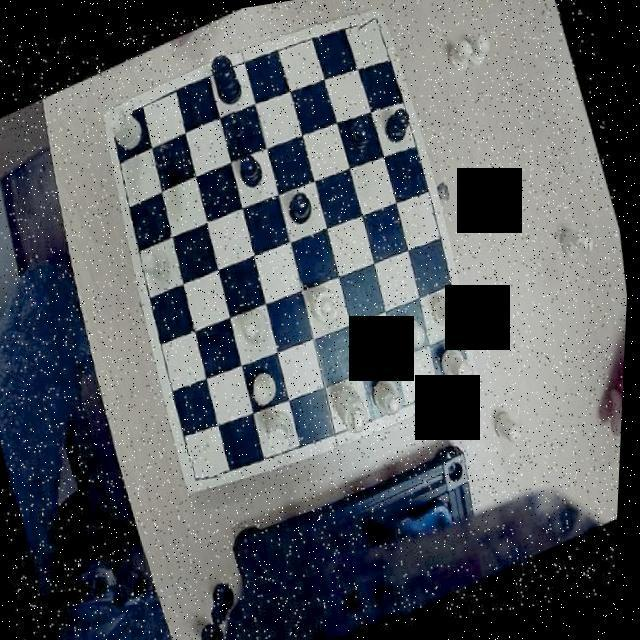chess-table-corners: (186, 450, 230, 493), (444, 354, 486, 397), (104, 102, 140, 140), (354, 6, 388, 45)
